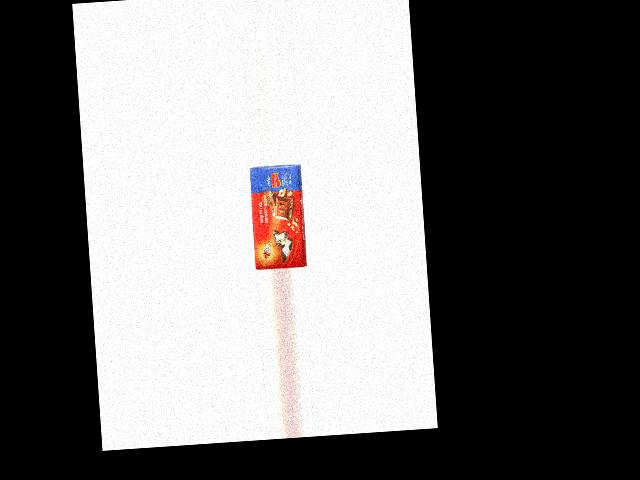chocolate: (249, 164, 307, 270)
